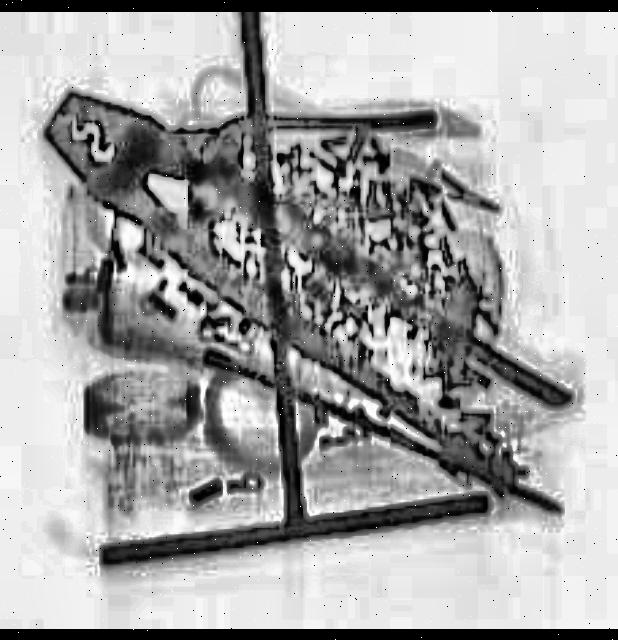Pliers: (28, 48, 578, 502)
